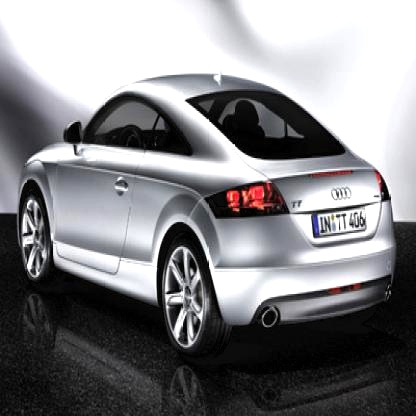Vehicle: (18, 72, 398, 360)
